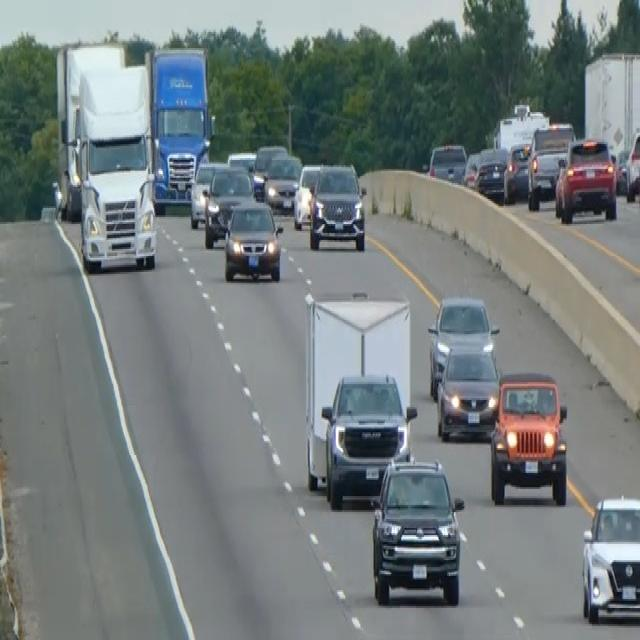car: (320, 369, 412, 506), (489, 368, 568, 505), (580, 491, 639, 624), (426, 294, 498, 396), (435, 343, 500, 439), (554, 135, 617, 222), (308, 160, 366, 251), (223, 197, 283, 283), (526, 119, 574, 210), (203, 164, 255, 247), (188, 158, 228, 228), (262, 153, 301, 213), (473, 144, 511, 203), (251, 142, 287, 198), (292, 162, 321, 229), (503, 140, 530, 202), (428, 141, 467, 183), (624, 128, 639, 201), (462, 150, 481, 188), (226, 150, 256, 174)
jeep: (369, 454, 465, 606)
lorry: (54, 41, 158, 272), (144, 45, 214, 212)
